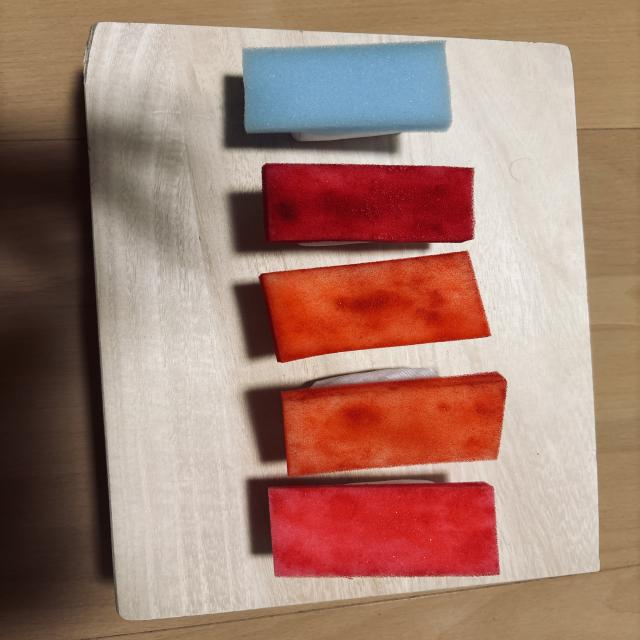ika: (243, 41, 452, 141)
maguro: (269, 480, 499, 578), (263, 164, 474, 243)
salmon: (260, 251, 490, 362), (281, 368, 507, 475)
